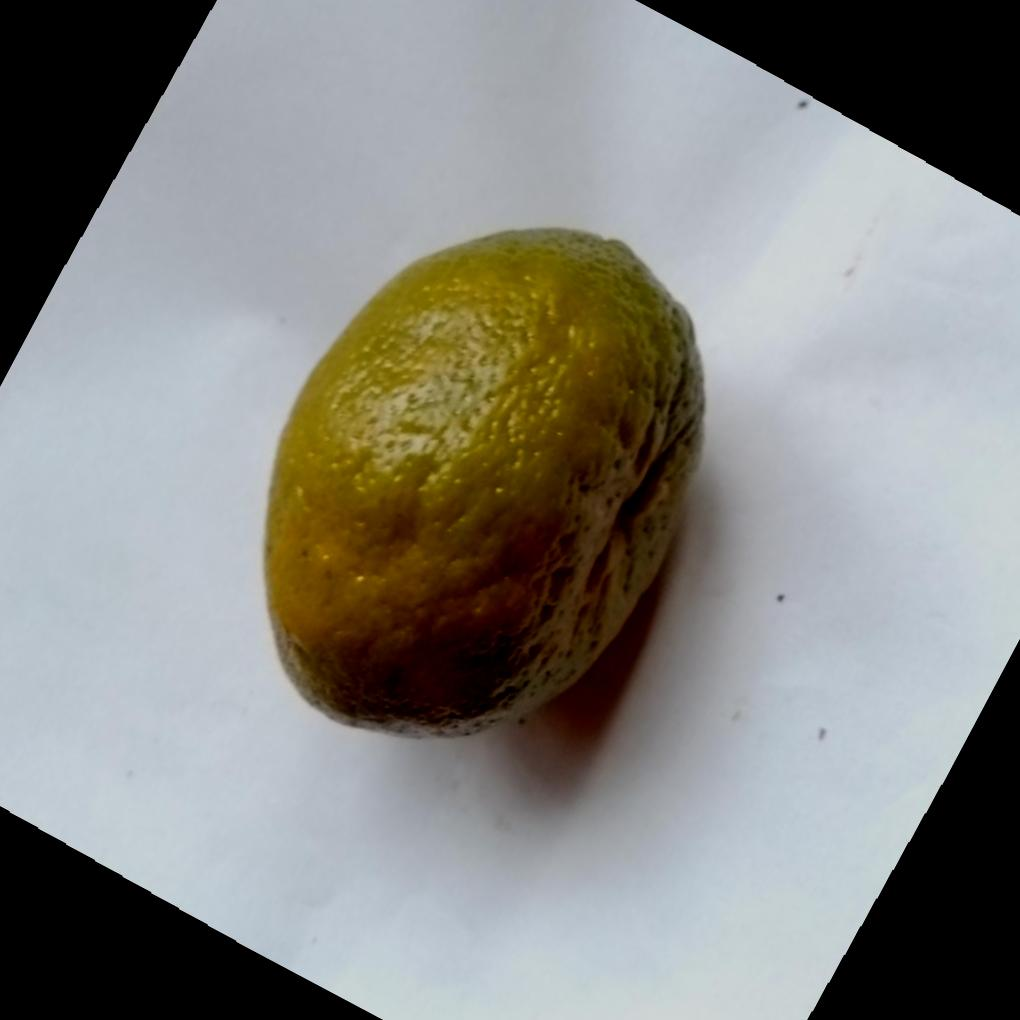FreshGuava: (261, 221, 707, 739)
